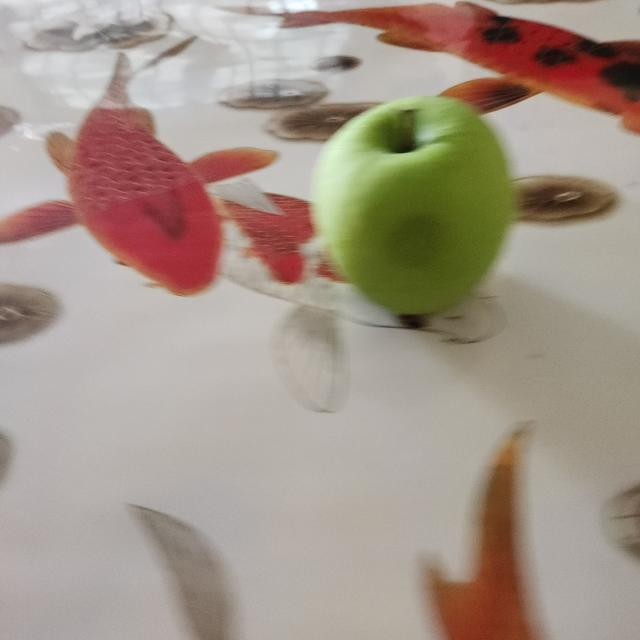apple: (297, 90, 520, 328)
